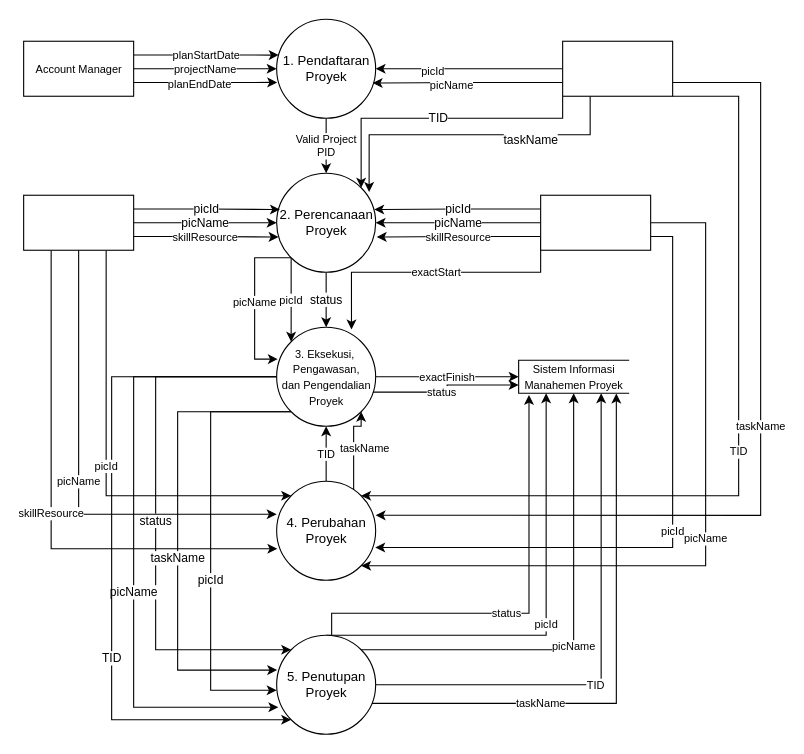
This 804x754 diagram has some shape labels left out. Here are the shapes that lost their labels. From the top down, the centre of each, then its label:
(x=617, y=68): Project Manager
(x=78, y=222): Functional Manager Development
(x=595, y=222): Functional Manager Provisioning & Test
